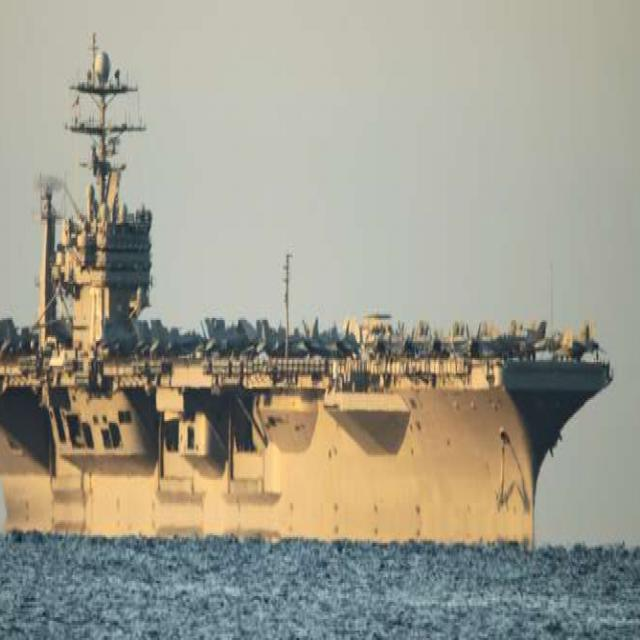Portanaves: (1, 5, 621, 548)
